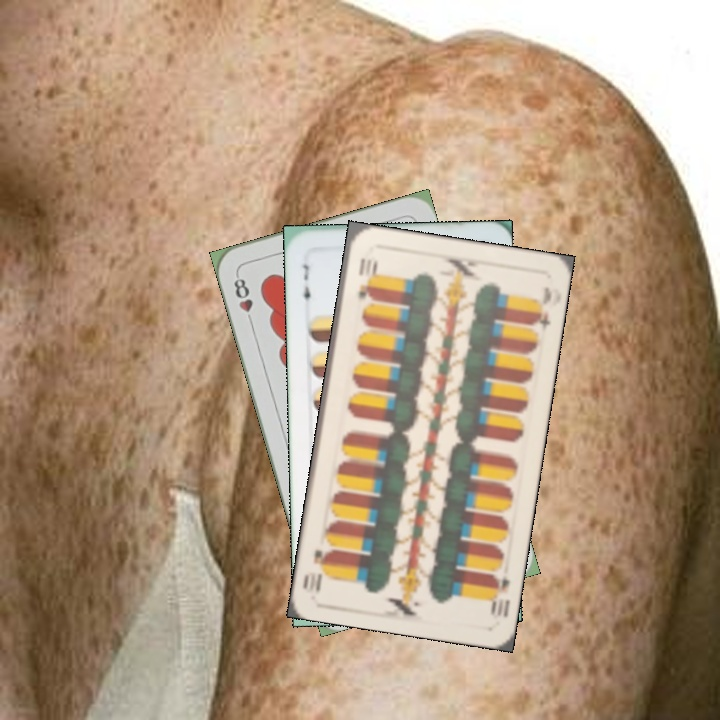E10: (486, 569, 512, 620), (354, 253, 377, 303)
E7: (298, 260, 313, 309)
H8: (229, 270, 256, 328)
